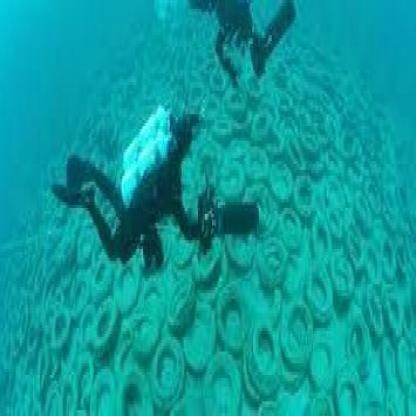tire: (248, 70, 416, 416), (7, 284, 248, 416)
